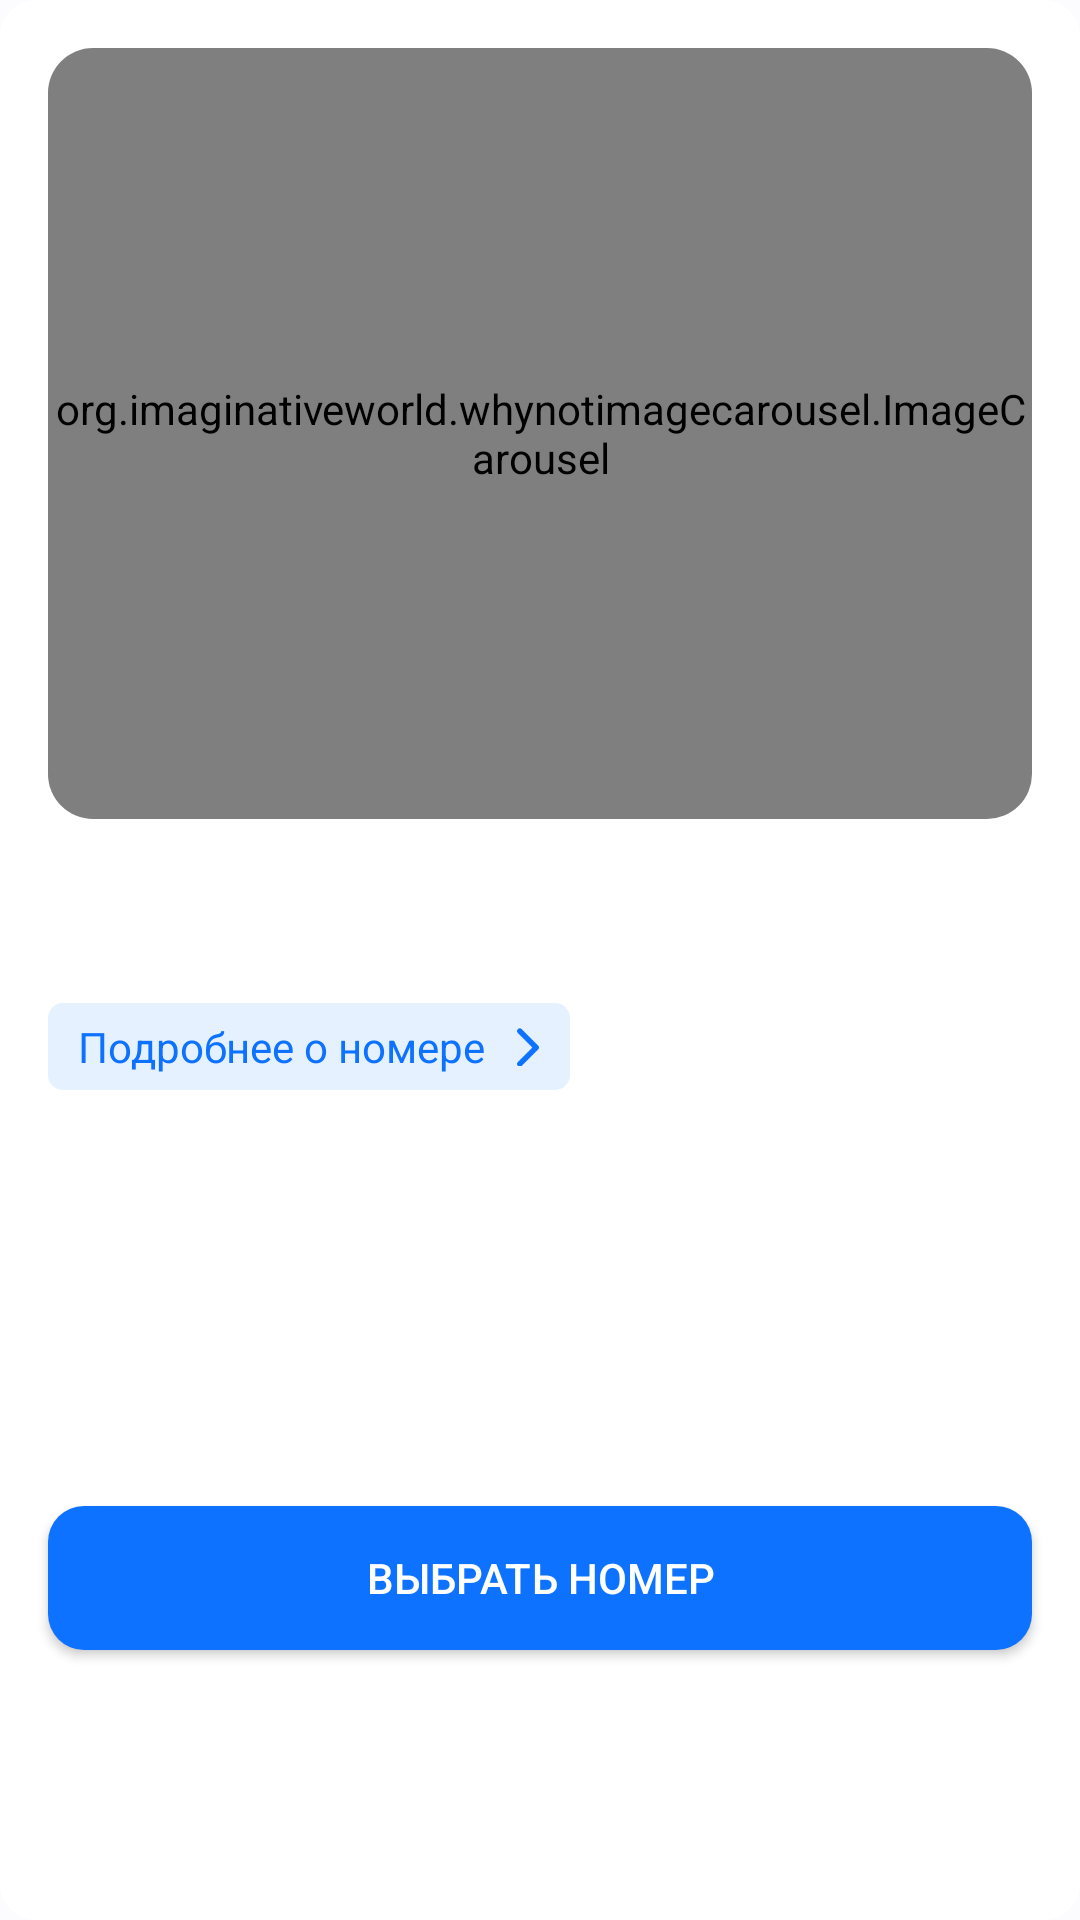

Named icons in this screenshot (1080px x 1920px) and their centers, [x,y]:
next: [528,1047]
